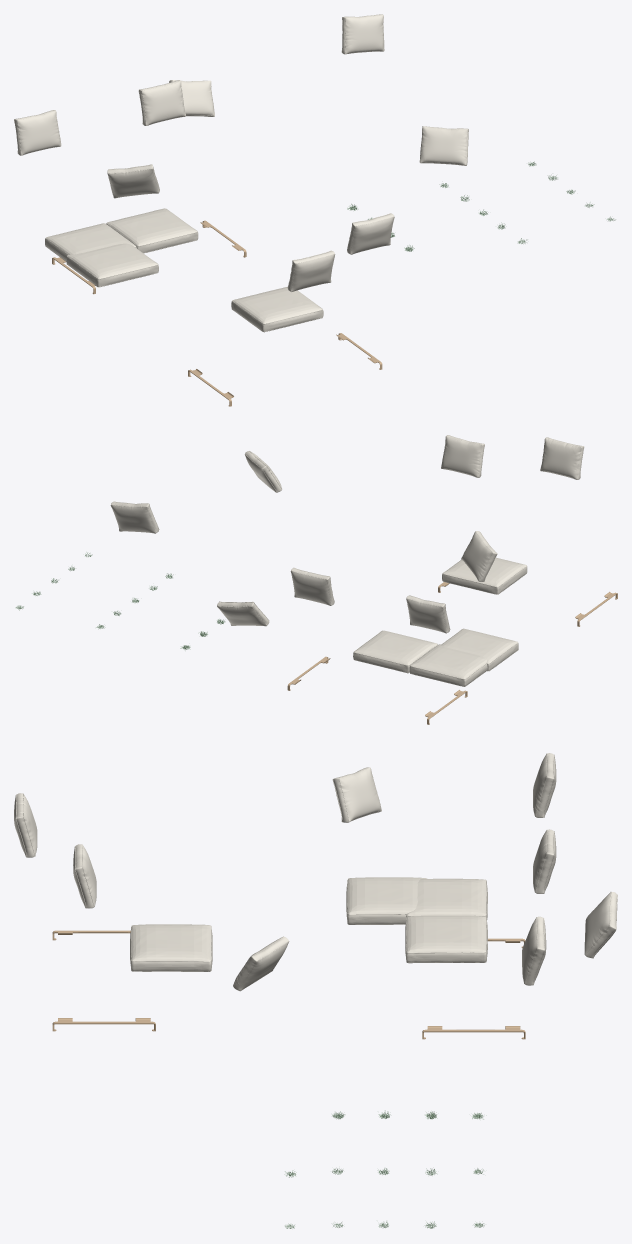
Rendered from sofa-exterior-original.glb.
3 views of the same model, one above another, from view 1: azimuth 30°, elevation 25°; view 2: azimuth 150°, elevation 25°; view 3: azimuth 270°, elevation 25° (orthographic). The views are drawn at different scales.
Parts seen in each view (by area): view 1: 9_3d_RNL_239_Fabric Cotton, 8_3d_RNL_238_Fabric Cotton, 5_3d_RNL_231_Fabric Cotton, 13_High008_Fabric Cotton0, 3_3d_RNL_236_Fabric Cotton, 0_High002_Fabric Cotton0, 1_High003_Fabric Cotton0, 10_High005_Fabric Cotton0, 2_High004_Fabric Cotton0, 12_High007_Fabric Cotton0, 11_High006_Fabric Cotton0, 4_High001_Fabric Cotton0; view 2: 3_3d_RNL_236_Fabric Cotton, 5_3d_RNL_231_Fabric Cotton, 9_3d_RNL_239_Fabric Cotton, 8_3d_RNL_238_Fabric Cotton, 11_High006_Fabric Cotton0, 12_High007_Fabric Cotton0, 10_High005_Fabric Cotton0, 0_High002_Fabric Cotton0, 1_High003_Fabric Cotton0, 2_High004_Fabric Cotton0, 4_High001_Fabric Cotton0, 13_High008_Fabric Cotton0 (+1 smaller); view 3: 9_3d_RNL_239_Fabric Cotton, 5_3d_RNL_231_Fabric Cotton, 8_3d_RNL_238_Fabric Cotton, 3_3d_RNL_236_Fabric Cotton, 2_High004_Fabric Cotton0, 4_High001_Fabric Cotton0, 13_High008_Fabric Cotton0, 10_High005_Fabric Cotton0, 0_High002_Fabric Cotton0, 12_High007_Fabric Cotton0, 11_High006_Fabric Cotton0, 1_High003_Fabric Cotton0 (+2 smaller).
Part boxes in pixels (x1=…): 9_3d_RNL_239_Fabric Cotton: x1=231, y1=286, x2=323, y2=332; 8_3d_RNL_238_Fabric Cotton: x1=66, y1=243, x2=158, y2=287; 5_3d_RNL_231_Fabric Cotton: x1=106, y1=208, x2=198, y2=253; 13_High008_Fabric Cotton0: x1=419, y1=126, x2=468, y2=165; 3_3d_RNL_236_Fabric Cotton: x1=45, y1=223, x2=136, y2=261; 0_High002_Fabric Cotton0: x1=14, y1=110, x2=61, y2=155; 1_High003_Fabric Cotton0: x1=138, y1=80, x2=185, y2=125; 10_High005_Fabric Cotton0: x1=341, y1=14, x2=384, y2=54; 2_High004_Fabric Cotton0: x1=107, y1=164, x2=159, y2=198; 12_High007_Fabric Cotton0: x1=287, y1=250, x2=335, y2=291; 11_High006_Fabric Cotton0: x1=347, y1=213, x2=394, y2=254; 4_High001_Fabric Cotton0: x1=169, y1=80, x2=214, y2=116; 3_3d_RNL_236_Fabric Cotton: x1=409, y1=644, x2=487, y2=686; 5_3d_RNL_231_Fabric Cotton: x1=353, y1=630, x2=437, y2=673; 9_3d_RNL_239_Fabric Cotton: x1=442, y1=557, x2=527, y2=594; 8_3d_RNL_238_Fabric Cotton: x1=441, y1=628, x2=518, y2=671; 11_High006_Fabric Cotton0: x1=441, y1=435, x2=484, y2=477; 12_High007_Fabric Cotton0: x1=540, y1=437, x2=584, y2=479; 10_High005_Fabric Cotton0: x1=110, y1=501, x2=159, y2=533; 0_High002_Fabric Cotton0: x1=406, y1=595, x2=450, y2=633; 1_High003_Fabric Cotton0: x1=290, y1=567, x2=334, y2=605; 2_High004_Fabric Cotton0: x1=461, y1=531, x2=497, y2=581; 4_High001_Fabric Cotton0: x1=217, y1=601, x2=269, y2=626; 13_High008_Fabric Cotton0: x1=244, y1=451, x2=281, y2=492; 9_3d_RNL_239_Fabric Cotton: x1=130, y1=924, x2=212, y2=971; 5_3d_RNL_231_Fabric Cotton: x1=405, y1=915, x2=487, y2=963; 8_3d_RNL_238_Fabric Cotton: x1=346, y1=877, x2=427, y2=924; 3_3d_RNL_236_Fabric Cotton: x1=406, y1=878, x2=487, y2=919; 2_High004_Fabric Cotton0: x1=332, y1=767, x2=381, y2=822; 4_High001_Fabric Cotton0: x1=584, y1=892, x2=617, y2=958; 13_High008_Fabric Cotton0: x1=233, y1=936, x2=289, y2=991; 10_High005_Fabric Cotton0: x1=522, y1=916, x2=546, y2=985; 0_High002_Fabric Cotton0: x1=533, y1=753, x2=556, y2=817; 12_High007_Fabric Cotton0: x1=14, y1=793, x2=37, y2=857; 11_High006_Fabric Cotton0: x1=73, y1=844, x2=96, y2=908; 1_High003_Fabric Cotton0: x1=533, y1=829, x2=556, y2=893.
Size of what is drawn, in the model's own units: 7.63 by 2.53 by 6.49.
